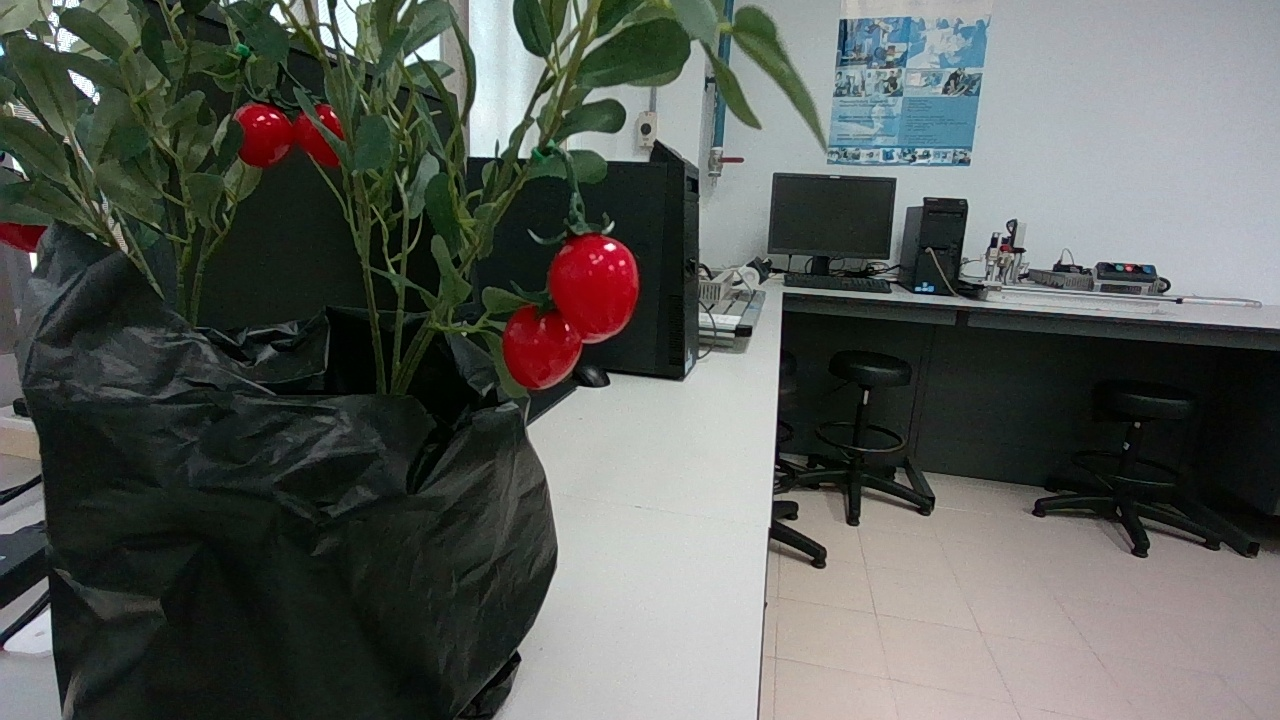peduncle: (552, 146, 578, 190)
strawberry: (548, 232, 640, 342), (504, 305, 583, 389), (234, 101, 294, 166), (293, 109, 338, 166), (314, 102, 343, 138)
